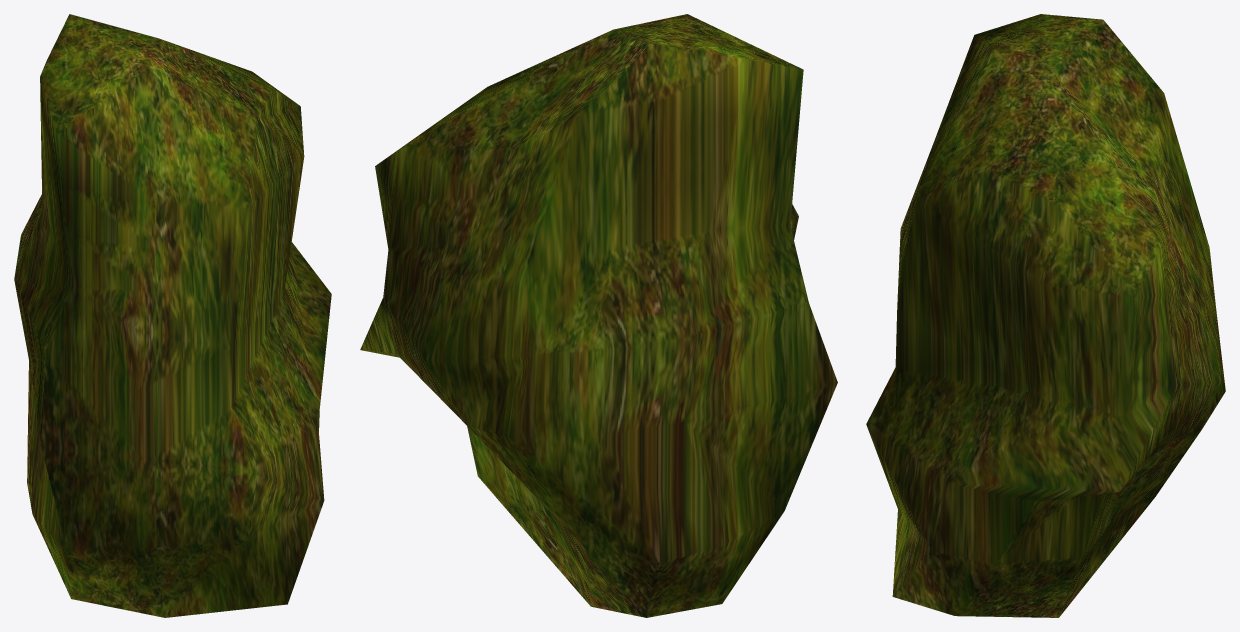
File: TROLLHOLE02_ZRM_PSURF105.obj
The picture shows the model from 3 angles, left to right: view 1: azimuth 30°, elevation 25°; view 2: azimuth 150°, elevation 25°; view 3: azimuth 270°, elevation 25°; orthographic projection. The views are drawn at different scales.
Visible parts, largest first — view 1: zRM_Psurf105; view 2: zRM_Psurf105; view 3: zRM_Psurf105.
Boxes of the visible parts, x1,y1,x2,y2 form: zRM_Psurf105: (14, 14, 331, 617); zRM_Psurf105: (360, 14, 837, 617); zRM_Psurf105: (866, 14, 1225, 617).
Size of the model in its own units: 525 by 772 by 450.
